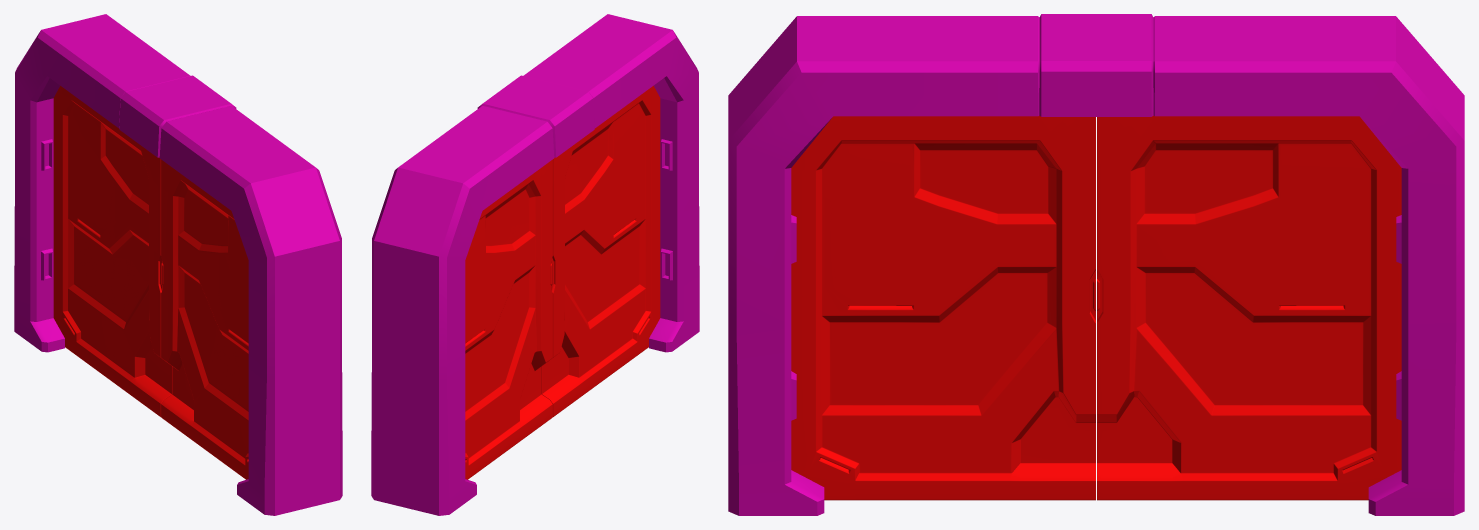
3 views of the same model, side by side, from view 1: azimuth 30°, elevation 25°; view 2: azimuth 150°, elevation 25°; view 3: azimuth 270°, elevation 25° (orthographic). The views are drawn at different scales.
Parts seen in each view (by area): view 1: LOW_Frame_Preoritet, Low_L, Low_R; view 2: LOW_Frame_Preoritet, Low_R, Low_L; view 3: LOW_Frame_Preoritet, Low_R, Low_L.
Boxes of the visible parts, left/top/right/bottom form: LOW_Frame_Preoritet: left=14, top=14, right=342, bottom=515; Low_L: left=53, top=86, right=172, bottom=416; Low_R: left=161, top=159, right=248, bottom=479; LOW_Frame_Preoritet: left=371, top=14, right=699, bottom=515; Low_R: left=541, top=86, right=660, bottom=416; Low_L: left=465, top=159, right=552, bottom=479; LOW_Frame_Preoritet: left=728, top=14, right=1464, bottom=515; Low_R: left=791, top=115, right=1095, bottom=500; Low_L: left=1097, top=115, right=1401, bottom=500.
Size of the model in its own units: 5.88 by 22.18 by 32.82.
